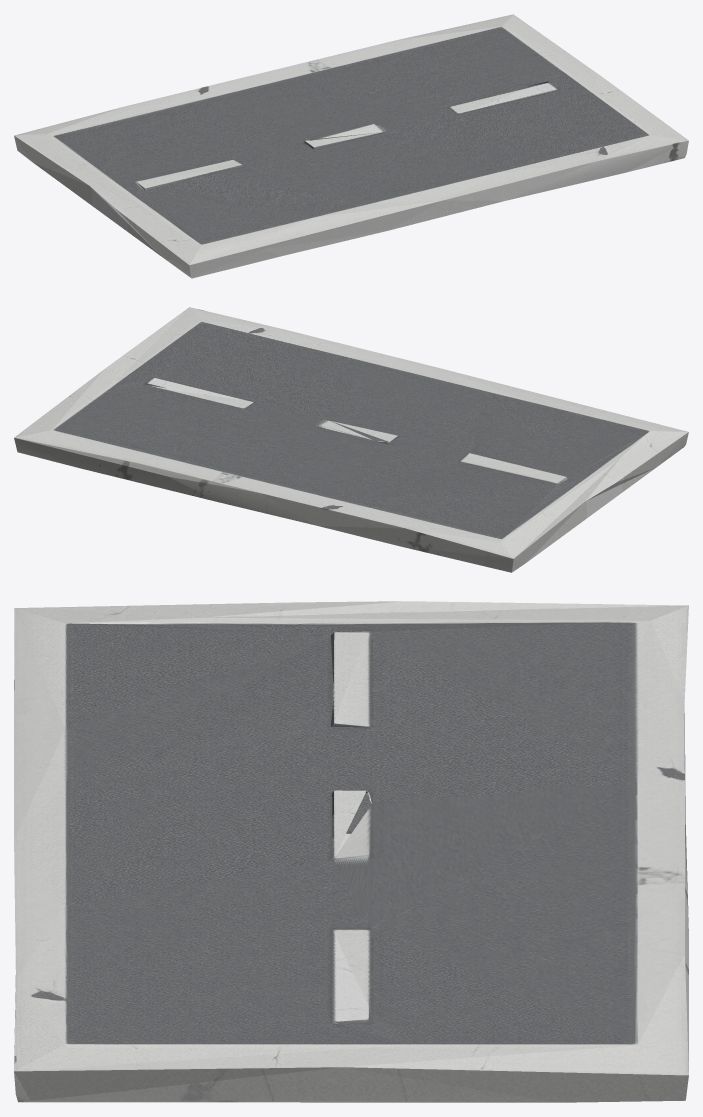
File: road.glb
3 views of the same model, one above another, from view 1: azimuth 30°, elevation 25°; view 2: azimuth 150°, elevation 25°; view 3: azimuth 270°, elevation 25° (orthographic). The views are drawn at different scales.
Parts seen in each view (by area): view 1: output_unwrapped; view 2: output_unwrapped; view 3: output_unwrapped.
Boxes of the visible parts, left/top/right/bottom form: output_unwrapped: left=14, top=14, right=688, bottom=278; output_unwrapped: left=14, top=307, right=688, bottom=572; output_unwrapped: left=14, top=601, right=688, bottom=1102.
Size of the model in its own units: 1.9 by 0.0867 by 1.15.
Materials: 1 (1 with a texture image).
